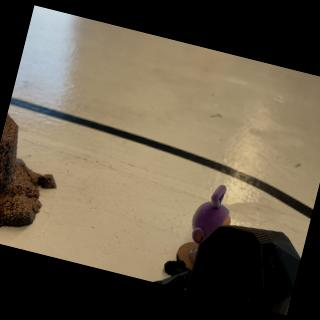teletubby: (191, 184, 230, 244)
